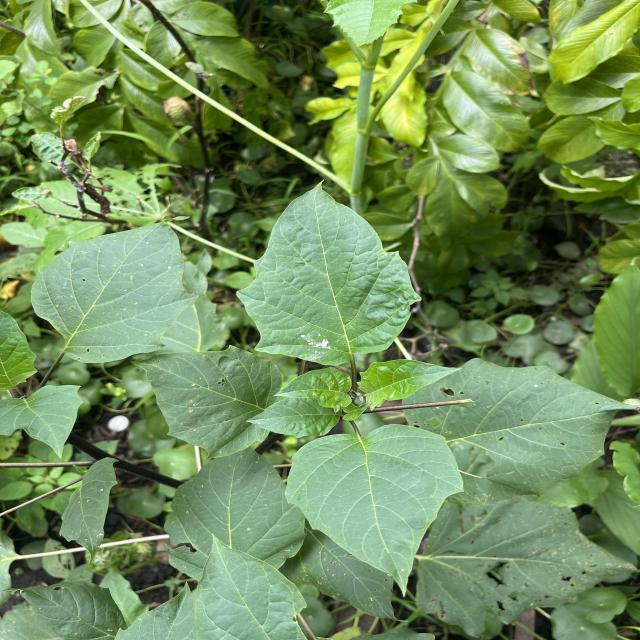Datura metal linn: (232, 175, 426, 369), (282, 420, 468, 601), (26, 210, 204, 368), (124, 342, 291, 461)
